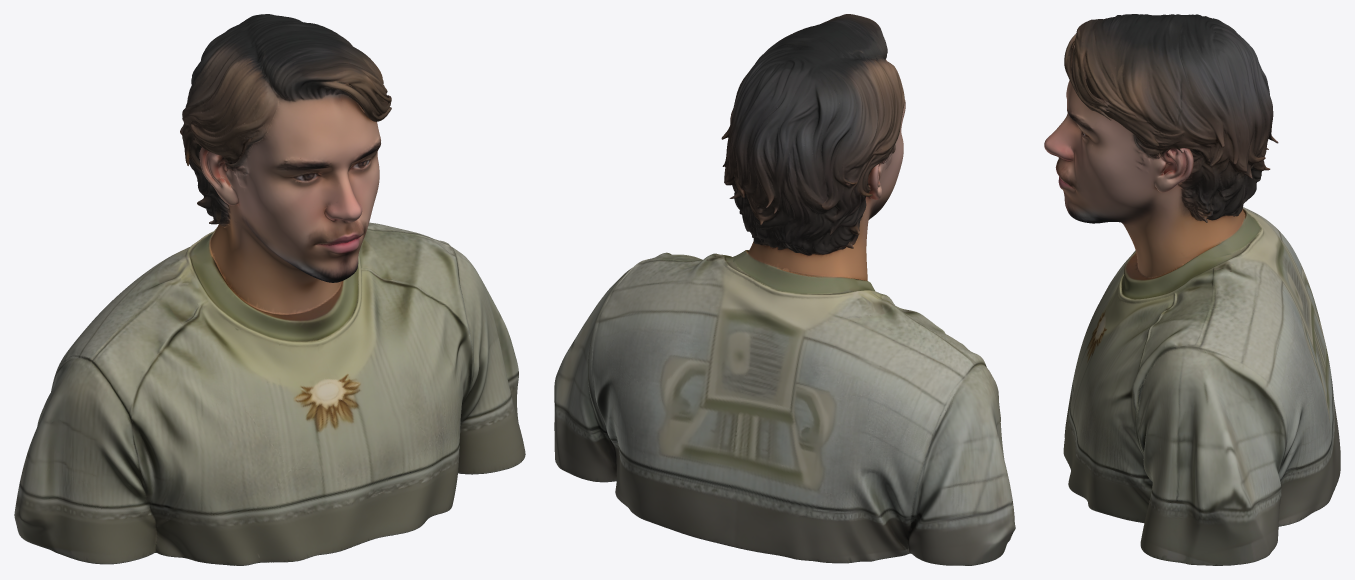
File: santi.glb
3 views of the same model, side by side, from view 1: azimuth 30°, elevation 25°; view 2: azimuth 150°, elevation 25°; view 3: azimuth 270°, elevation 25° (orthographic). The views are drawn at different scales.
Bounding box in the file's own units: 1.9 × 1.77 × 1.09.
Materials: 1 (1 with a texture image).
